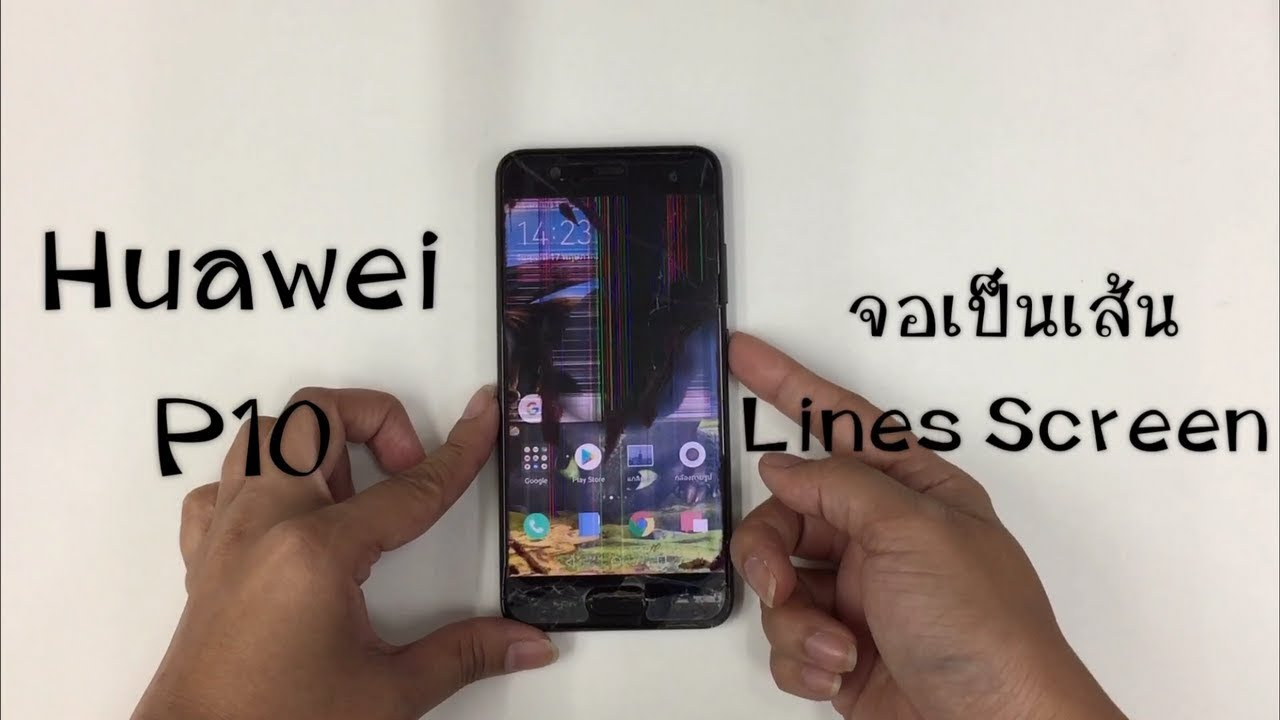Phone: (487, 139, 745, 636)
